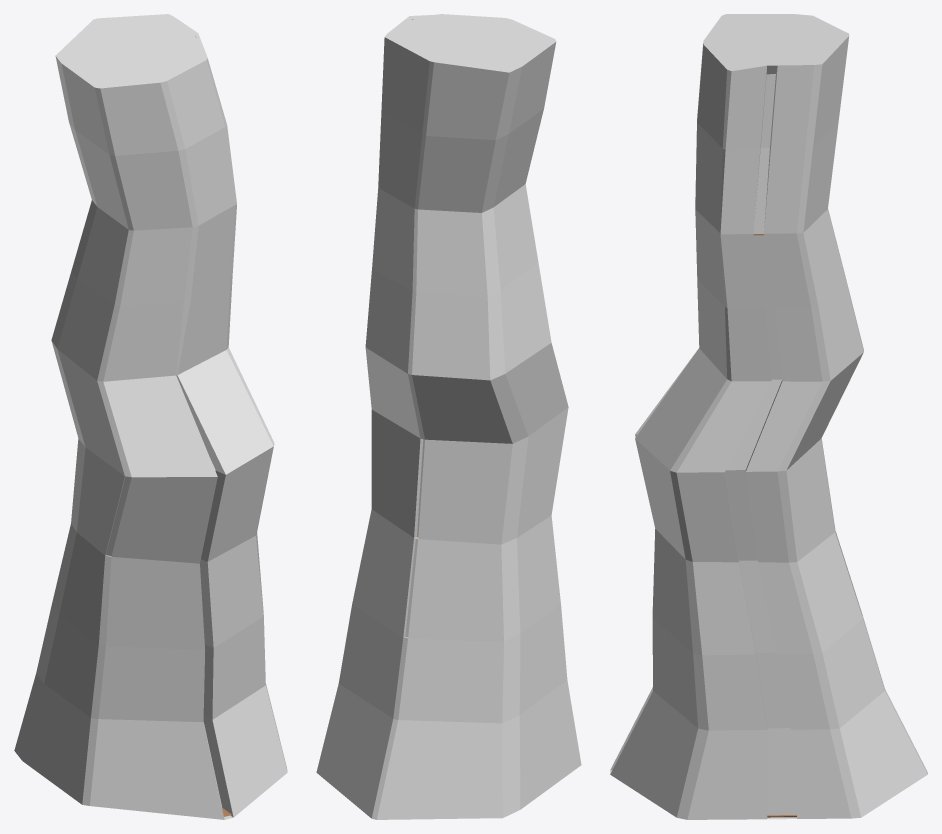
The model's file is resource__surrounding__tree_trunk_2.fbx.
The picture shows the model from 3 angles, left to right: view 1: azimuth 30°, elevation 25°; view 2: azimuth 150°, elevation 25°; view 3: azimuth 270°, elevation 25°; orthographic projection. The views are drawn at different scales.
Visible parts, largest first — view 1: Map_Surrounding_TreeTrunk_2; view 2: Map_Surrounding_TreeTrunk_2; view 3: Map_Surrounding_TreeTrunk_2.
Part boxes in pixels (x1,y1,x2,y2): Map_Surrounding_TreeTrunk_2: (14,14,287,819); Map_Surrounding_TreeTrunk_2: (316,14,581,819); Map_Surrounding_TreeTrunk_2: (610,14,927,819).
Bounding box in the file's own units: 168 × 605 × 237.
